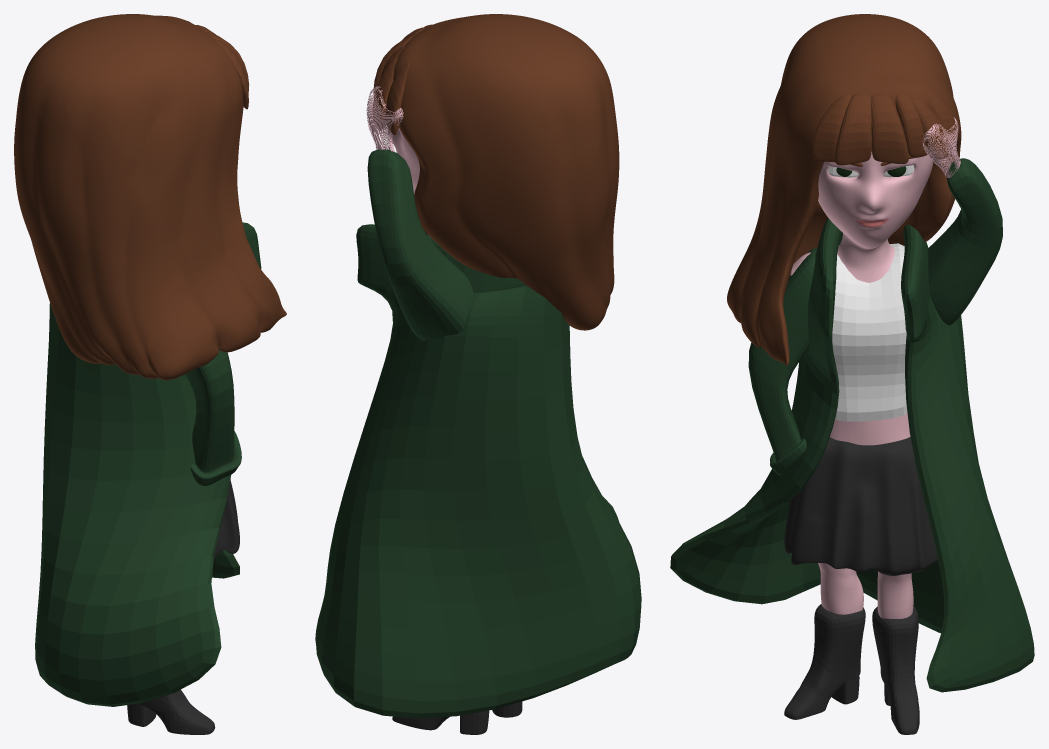
File: personaje-2.glb
3 views of the same model, side by side, from view 1: azimuth 30°, elevation 25°; view 2: azimuth 150°, elevation 25°; view 3: azimuth 270°, elevation 25° (orthographic). The views are drawn at different scales.
Visible parts, largest first — view 1: Cube.001, Plane, Cube.012, Cube.013, Cube.009, Cube.003, Cube.010; view 2: Plane, Cube.001, Cube.011, Test.003, Cube.004, Cube.005, Test, Cube.014; view 3: Plane, Cube.001, Cube.009, Test, Cube.007, Cube.011, Cube.012, Cube.013, Cube.002, Cube.015, Cube.003, Test.001 (+3 smaller).
Part boxes in pixels (box(x1,y1,x2,y2)): Cube.001: box(14, 14, 286, 380); Plane: box(35, 222, 261, 706); Cube.012: box(185, 350, 241, 485); Cube.013: box(138, 689, 215, 734); Cube.009: box(213, 479, 239, 560); Cube.003: box(188, 21, 248, 109); Cube.010: box(127, 703, 156, 726); Plane: box(315, 224, 641, 718); Cube.001: box(393, 14, 619, 330); Cube.011: box(367, 149, 473, 340); Test.003: box(366, 86, 403, 151); Cube.004: box(385, 61, 410, 135); Cube.005: box(372, 56, 397, 130); Test: box(388, 127, 419, 194); Cube.014: box(460, 710, 489, 734); Plane: box(670, 217, 1034, 692); Cube.001: box(727, 14, 961, 365); Cube.009: box(784, 437, 937, 575); Test: box(790, 151, 933, 618); Cube.007: box(832, 243, 907, 421); Cube.011: box(928, 158, 1002, 325); Cube.012: box(748, 248, 817, 475); Cube.013: box(784, 604, 865, 719); Cube.002: box(835, 93, 908, 165); Cube.015: box(872, 606, 919, 734); Cube.003: box(812, 93, 929, 161); Test.001: box(818, 563, 863, 614).
Bounding box in the file's own units: 1.41 × 3.66 × 1.82.
Materials: 6 (1 with a texture image).
